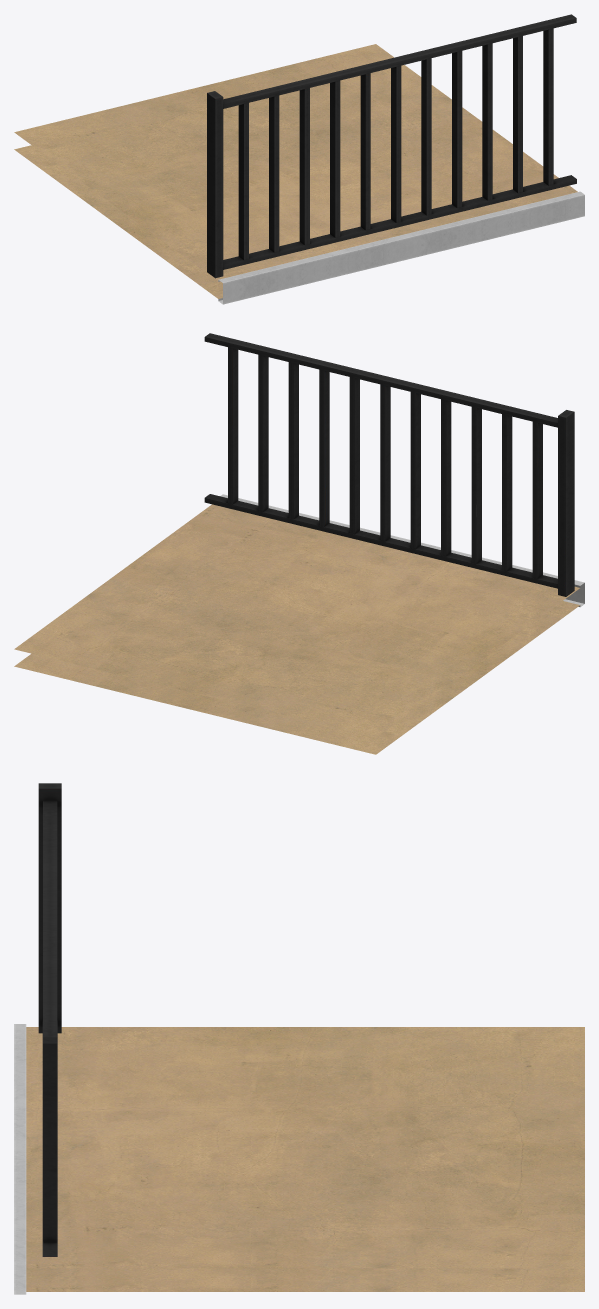
File: Balcony_1.fbx
3 views of the same model, one above another, from view 1: azimuth 30°, elevation 25°; view 2: azimuth 150°, elevation 25°; view 3: azimuth 270°, elevation 25° (orthographic). The views are drawn at different scales.
Visible parts, largest first — view 1: Balcony_1; view 2: Balcony_1; view 3: Balcony_1.
Part boxes in pixels (x1,y1,x2,y2): Balcony_1: (14, 14, 584, 304); Balcony_1: (14, 333, 584, 754); Balcony_1: (14, 783, 584, 1294).
Bounding box in the file's own units: 3.02 × 1.57 × 3.
